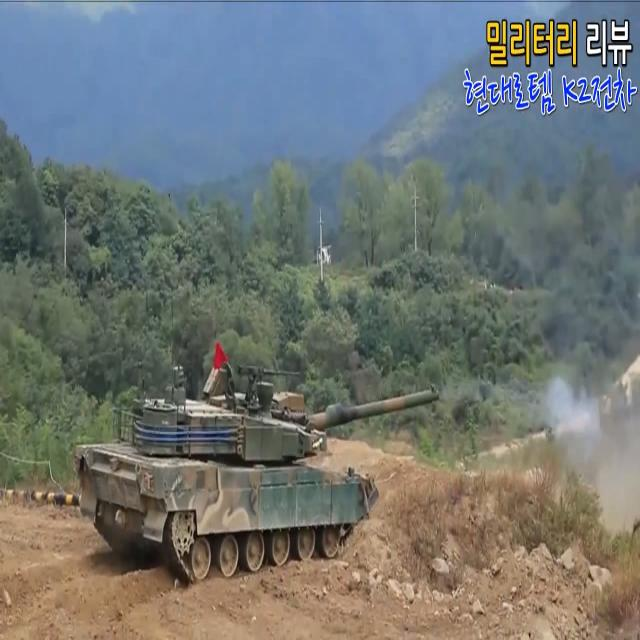korea tank: (72, 351, 439, 580)
